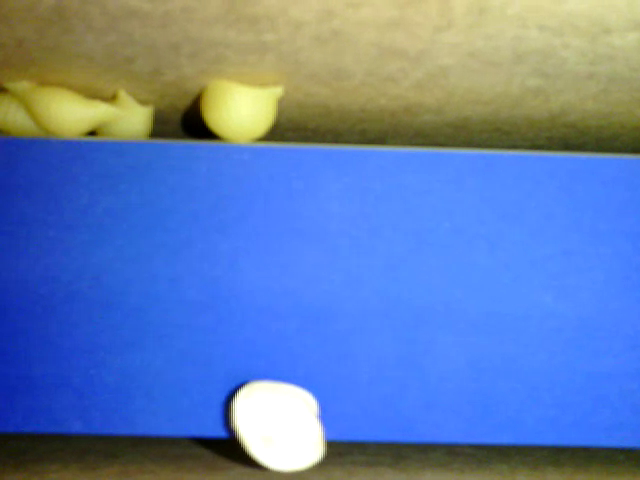shell: (1, 79, 130, 137), (198, 77, 283, 141), (92, 91, 155, 139), (1, 89, 49, 137)
